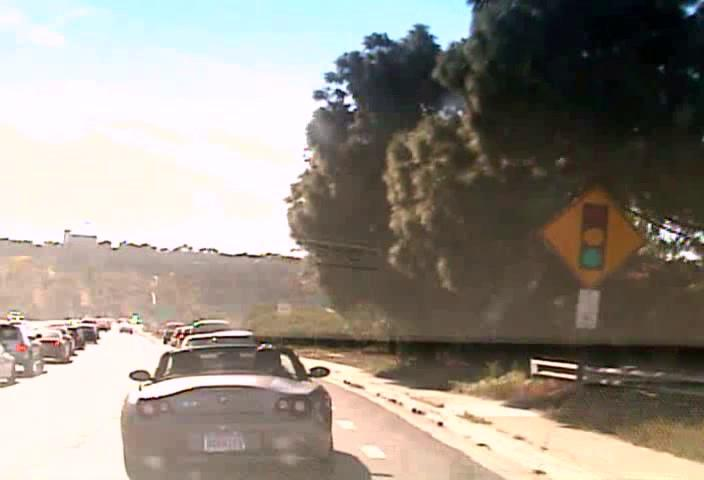signalAhead: (539, 183, 645, 287)
